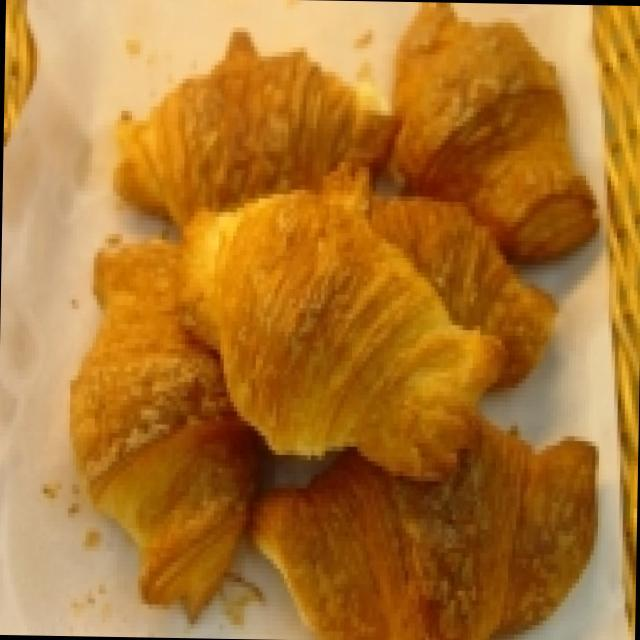Croissant: (162, 185, 504, 469)
